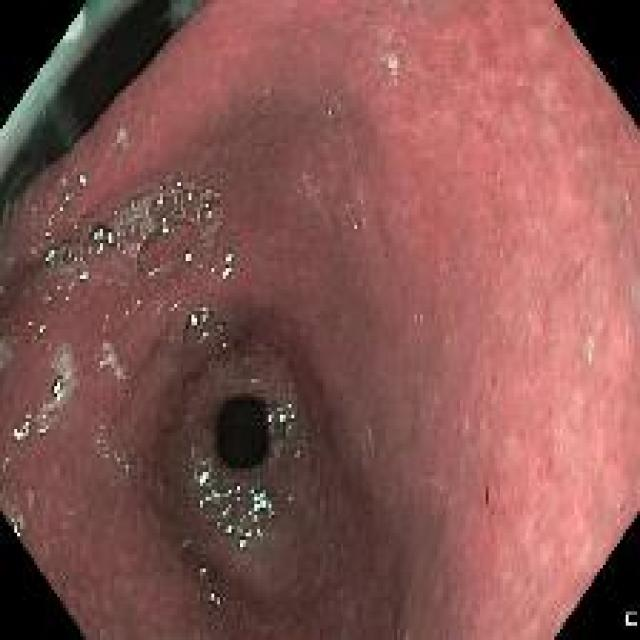bubbles: (136, 219, 201, 295), (44, 338, 84, 421), (94, 429, 135, 476), (80, 224, 118, 272), (94, 340, 128, 384), (200, 199, 225, 239), (0, 327, 18, 375), (147, 188, 171, 223), (179, 175, 201, 213), (123, 220, 145, 251), (60, 241, 80, 273), (69, 226, 86, 250)
contrast: (7, 12, 179, 184), (219, 394, 271, 465)
specularity: (202, 483, 277, 550), (186, 307, 214, 344), (270, 395, 299, 425), (5, 416, 37, 442), (47, 367, 63, 404), (194, 460, 213, 491), (215, 259, 235, 286), (41, 240, 59, 265), (178, 243, 194, 271), (208, 583, 223, 612), (11, 504, 21, 543), (158, 221, 175, 240), (62, 189, 79, 208), (41, 285, 53, 308), (25, 482, 34, 512), (46, 213, 57, 236), (93, 354, 106, 373), (38, 422, 52, 439), (118, 306, 131, 324), (34, 322, 46, 341), (123, 197, 139, 210), (195, 562, 206, 579), (93, 241, 104, 258), (93, 228, 108, 240), (223, 250, 234, 265), (106, 228, 115, 246), (206, 264, 216, 280), (155, 191, 163, 210), (74, 174, 86, 186), (111, 205, 121, 219), (23, 319, 35, 330)
